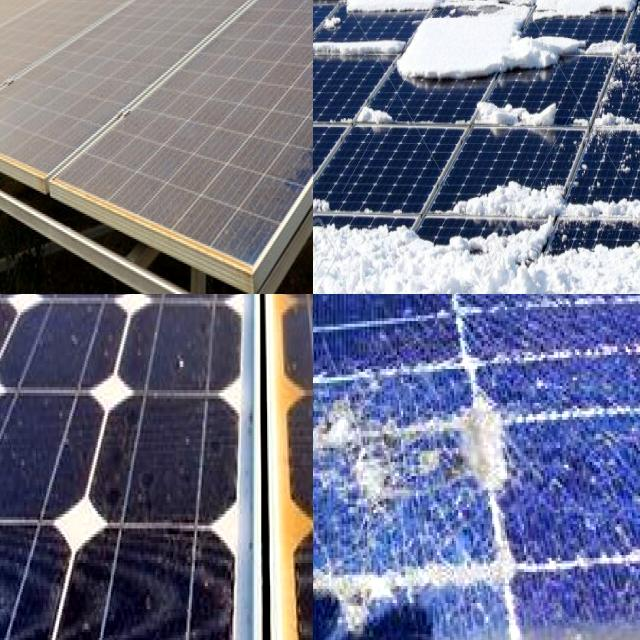dust: (145, 84, 281, 220), (40, 0, 124, 176), (0, 0, 61, 105), (99, 0, 269, 26), (276, 0, 313, 70)
hotspot: (313, 373, 515, 521), (313, 523, 528, 640)
panel: (446, 163, 581, 294), (313, 174, 447, 294), (384, 0, 460, 89), (588, 43, 640, 162), (492, 0, 583, 58), (469, 91, 572, 138), (605, 174, 640, 279), (313, 0, 375, 55), (354, 98, 424, 145), (591, 0, 640, 59), (313, 29, 380, 69), (467, 0, 493, 52)
